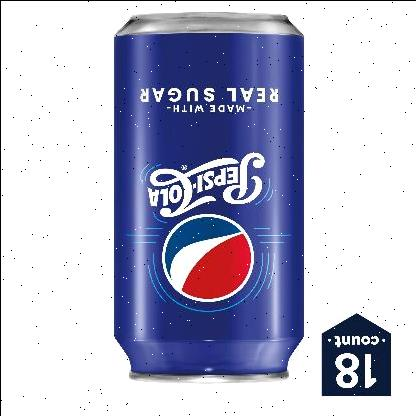Can: (112, 6, 304, 384)
